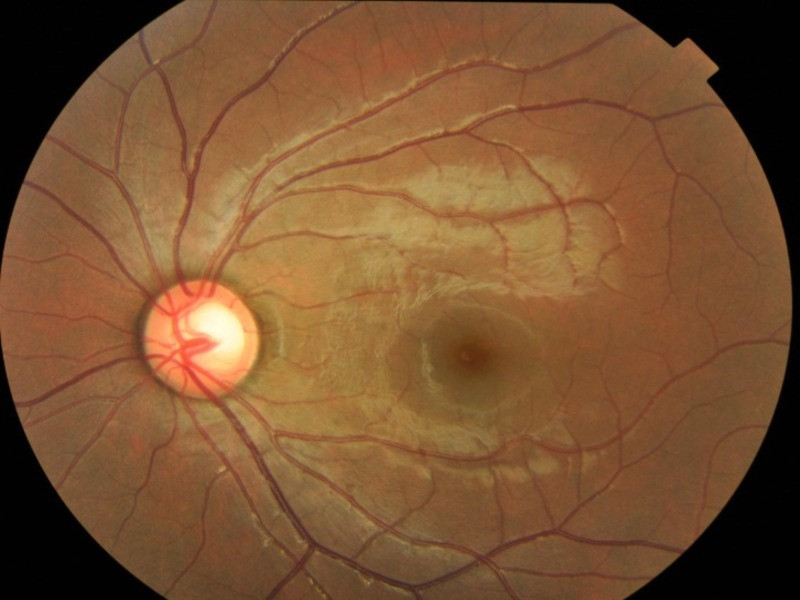Optic Cup: (187, 304, 241, 361)
Optic Disc: (143, 281, 259, 399)
